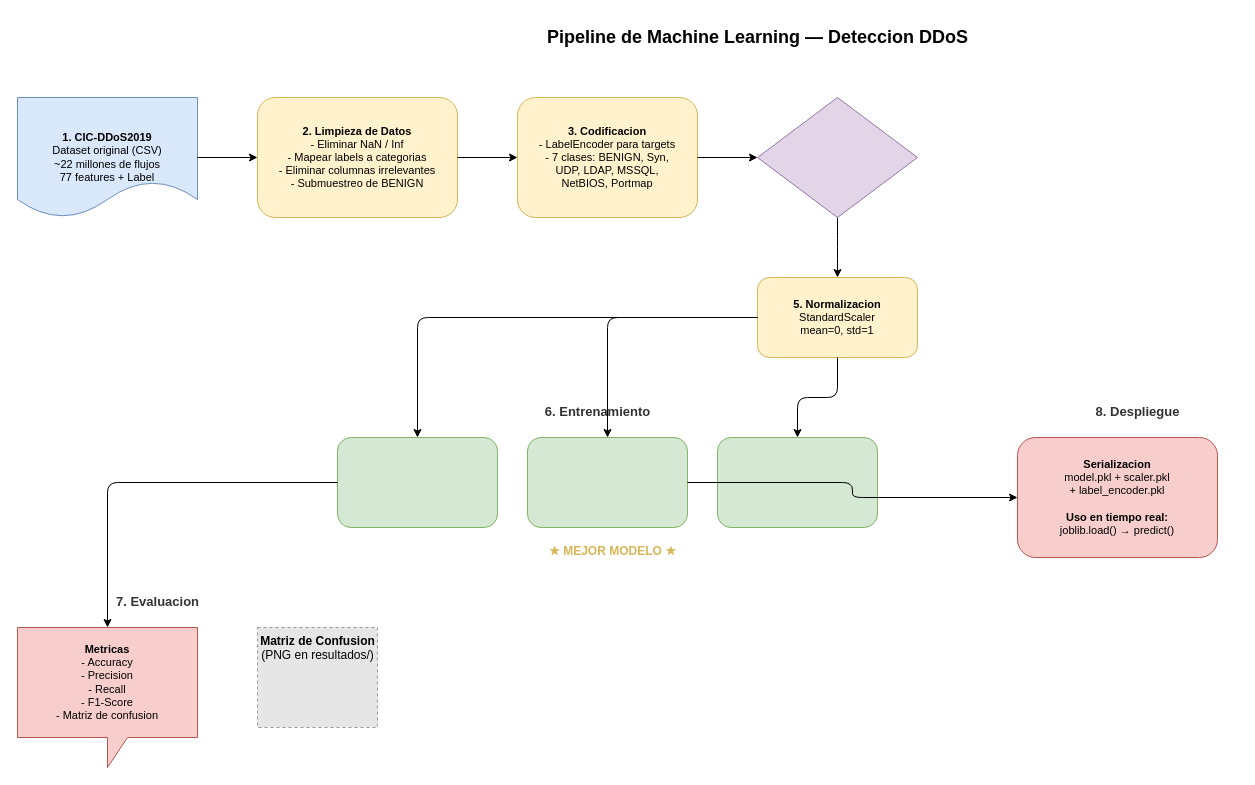
Some shapes in this 1255 by 785 pixel diagram are drawn without their labels. Grey dashed boxes stand in for pictures. The shapes that lost their labels are listed below. From the top down, each one's centre as x and y in pixels, then its label:
pixel 837 157: 4. Division Train: 80% Test: 20% random_state=42
pixel 417 482: Random Forest n_estimators=200 max_depth=20 accuracy=89.1%
pixel 607 482: XGBoost n_estimators=100 learning_rate=0.1 accuracy=92.8%
pixel 797 482: MLP Neural Network hidden=(100,50,25) max_iter=500 accuracy=85.9%
